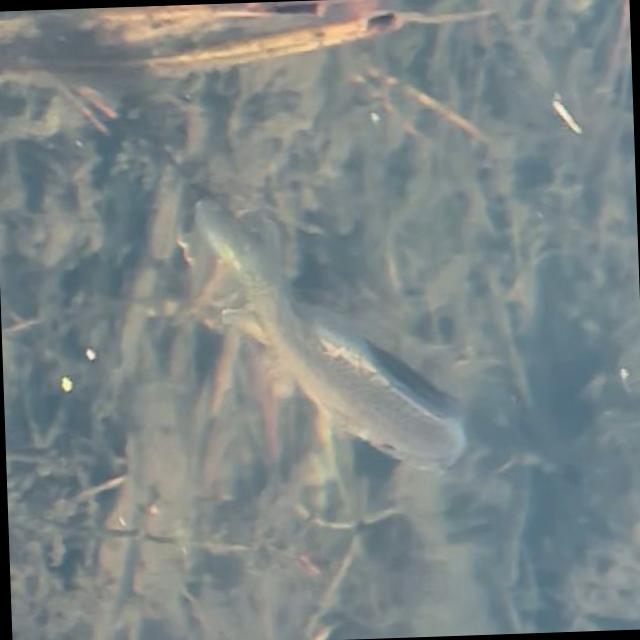Gunes Levregi: (180, 182, 473, 487)
